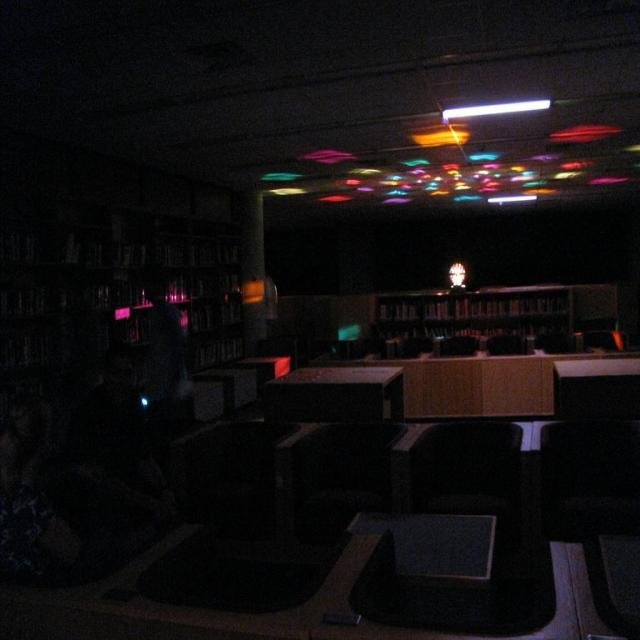Table: (260, 364, 406, 434)
